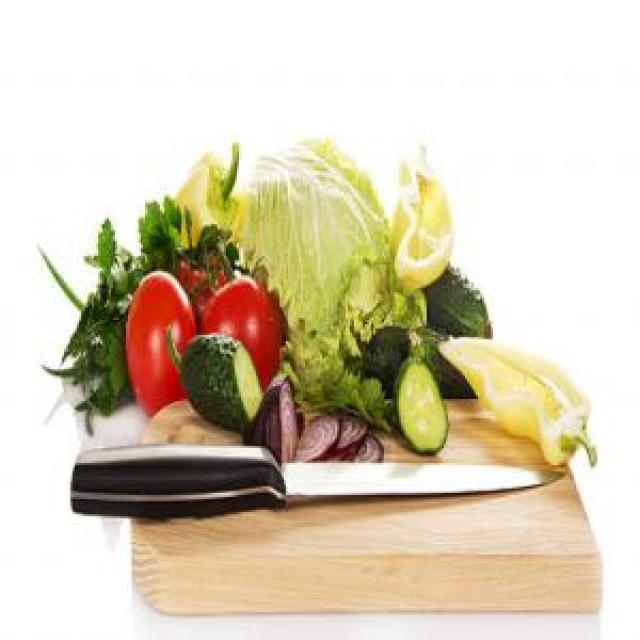knife: (70, 446, 573, 515)
